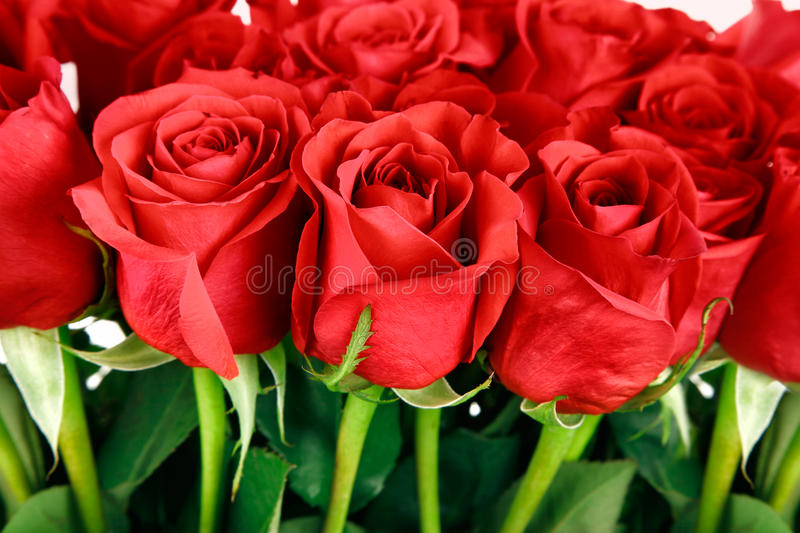RedRose: (288, 90, 538, 396), (72, 66, 326, 364), (487, 110, 713, 417), (629, 1, 800, 156), (0, 69, 106, 318), (473, 0, 669, 133), (260, 0, 505, 103), (687, 160, 762, 374), (104, 1, 261, 100), (747, 152, 800, 383)
